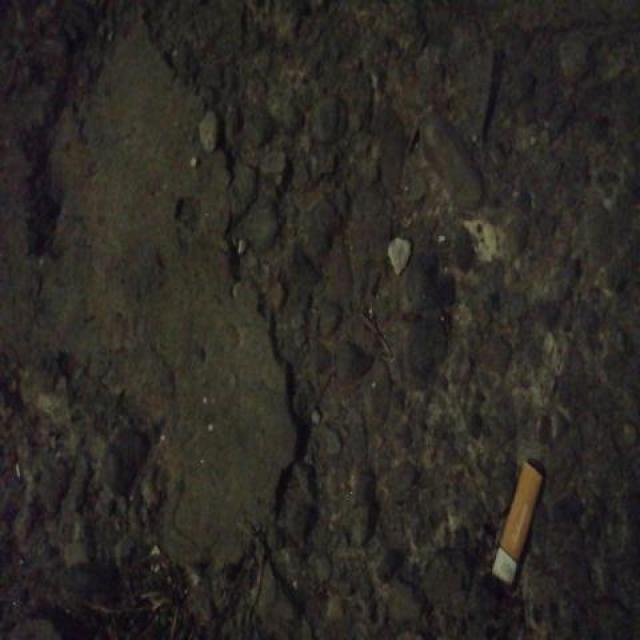non-organic waste: (485, 455, 547, 588)
